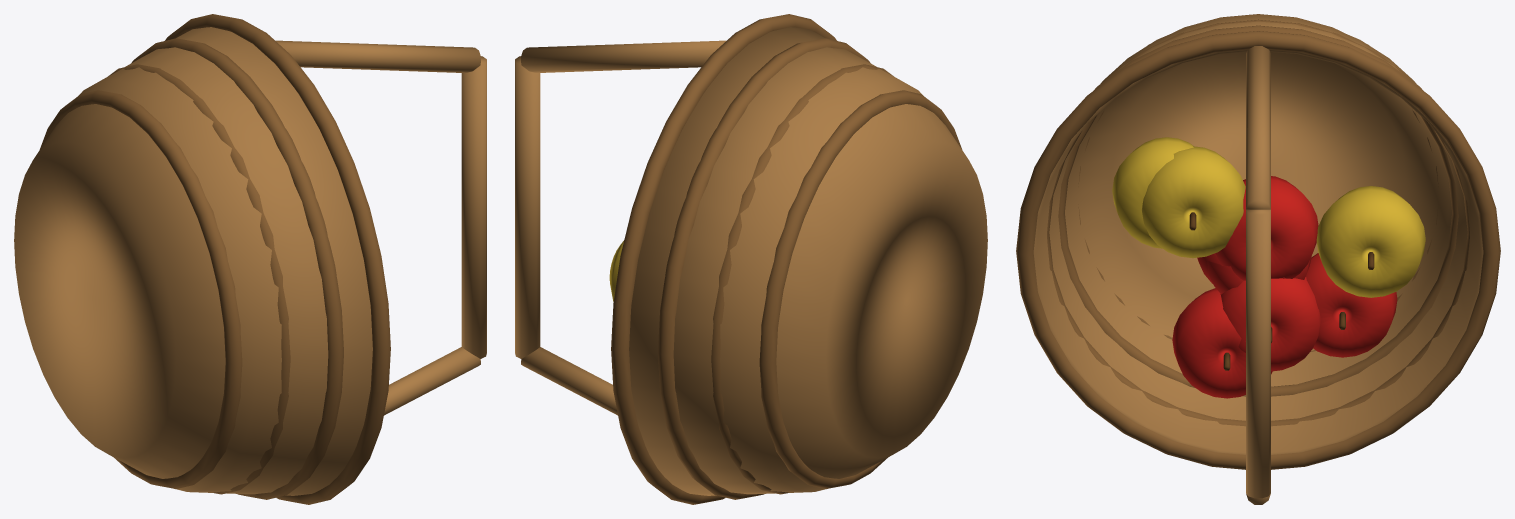
Rendered from apfelkorb.glb.
The picture shows the model from 3 angles, left to right: view 1: azimuth 30°, elevation 25°; view 2: azimuth 150°, elevation 25°; view 3: azimuth 270°, elevation 25°; orthographic projection. The views are drawn at different scales.
Parts seen in each view (by area): view 1: korb; view 2: korb; view 3: korb.
Part boxes in pixels (<box>): korb: <box>14,14,486,504</box>; korb: <box>515,14,987,504</box>; korb: <box>1016,14,1500,504</box>.
Size of the model in its own units: 0.2776 by 0.3099 by 0.3099.
